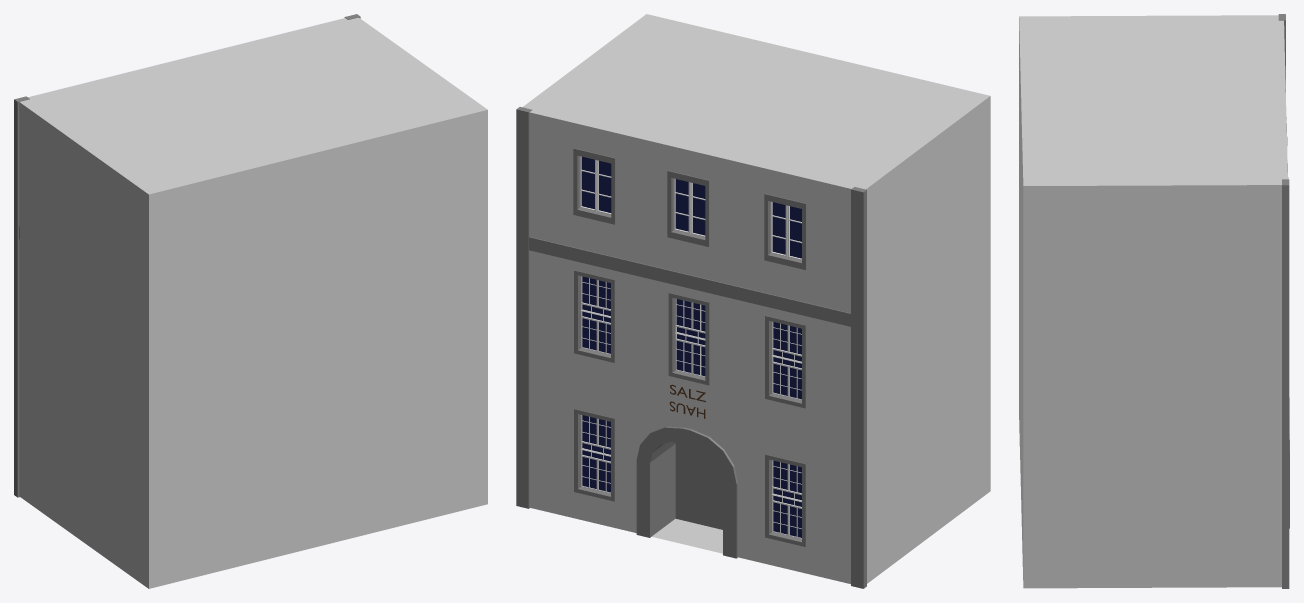
File: SalzHaus.fbx
3 views of the same model, side by side, from view 1: azimuth 30°, elevation 25°; view 2: azimuth 150°, elevation 25°; view 3: azimuth 270°, elevation 25° (orthographic).
Parts seen in each view (by area): view 1: Cube.8840, Cube.8835; view 2: Cube.8840, Cube.8839, Cube.8835, Cube.4922, Cube.8834, Cube.143, Cube.8832, Cube.8826, Cube.8828, Cube.8830, Cube.8825, Cube.8833 (+9 smaller); view 3: Cube.8840, Cube.4922.
Boxes of the visible parts, left/top/right/bottom form: Cube.8840: left=19, top=17, right=487, bottom=588; Cube.8835: left=14, top=96, right=29, bottom=497; Cube.8840: left=522, top=14, right=990, bottom=583; Cube.8839: left=636, top=426, right=737, bottom=558; Cube.8835: left=851, top=187, right=866, bottom=588; Cube.4922: left=516, top=107, right=531, bottom=508; Cube.8834: left=529, top=237, right=850, bottom=326; Cube.143: left=676, top=299, right=705, bottom=376; Cube.8832: left=773, top=460, right=801, bottom=537; Cube.8826: left=582, top=276, right=610, bottom=353; Cube.8828: left=582, top=415, right=610, bottom=492; Cube.8830: left=773, top=322, right=801, bottom=399; Cube.8825: left=668, top=293, right=709, bottom=385; Cube.8833: left=765, top=454, right=805, bottom=546; Cube.8840: left=1019, top=15, right=1287, bottom=588; Cube.4922: left=1282, top=179, right=1289, bottom=588.
Size of the model in its own units: 1276 by 1398 by 850.
